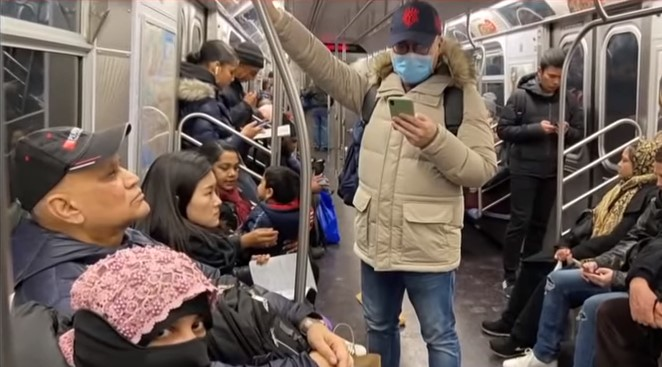face_no_mask: (36, 126, 155, 235), (151, 151, 224, 229), (190, 39, 237, 93), (254, 166, 298, 204), (208, 145, 242, 189), (538, 46, 566, 93)
face_with_mask: (73, 245, 215, 362), (390, 1, 445, 85)
